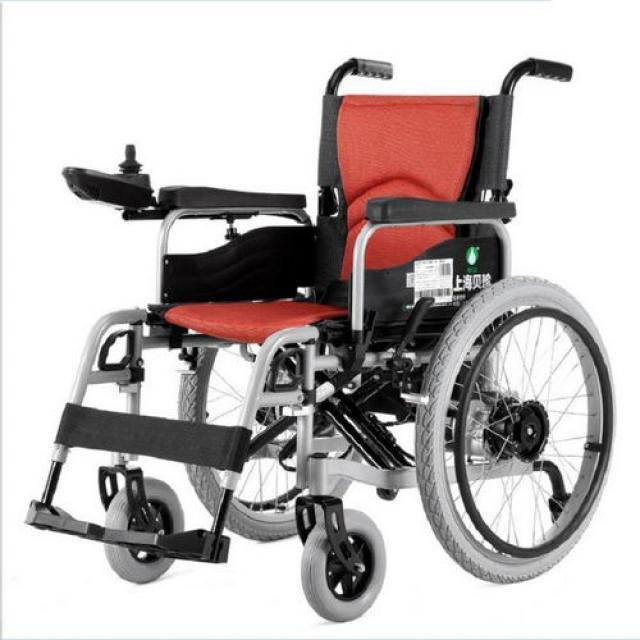wheelchair: (21, 55, 624, 639)
